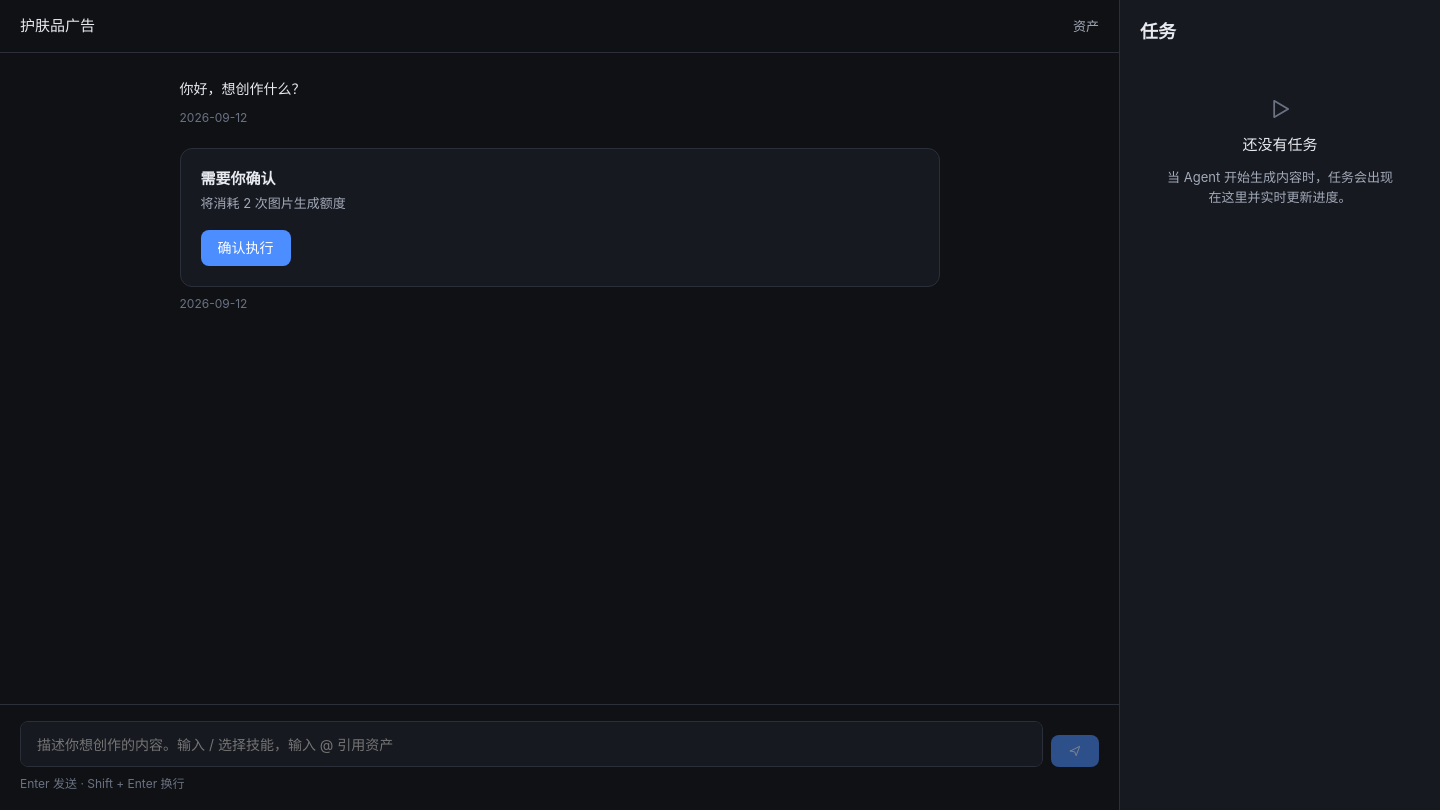
AgentWorkspace 接线：确认 › 确认失败时提示原因，而不是假装已放行
Expected: the heading "需要你确认" is shown, [200,168,276,188]
Click the button "确认执行" at (246, 248), box [200,230,290,266]
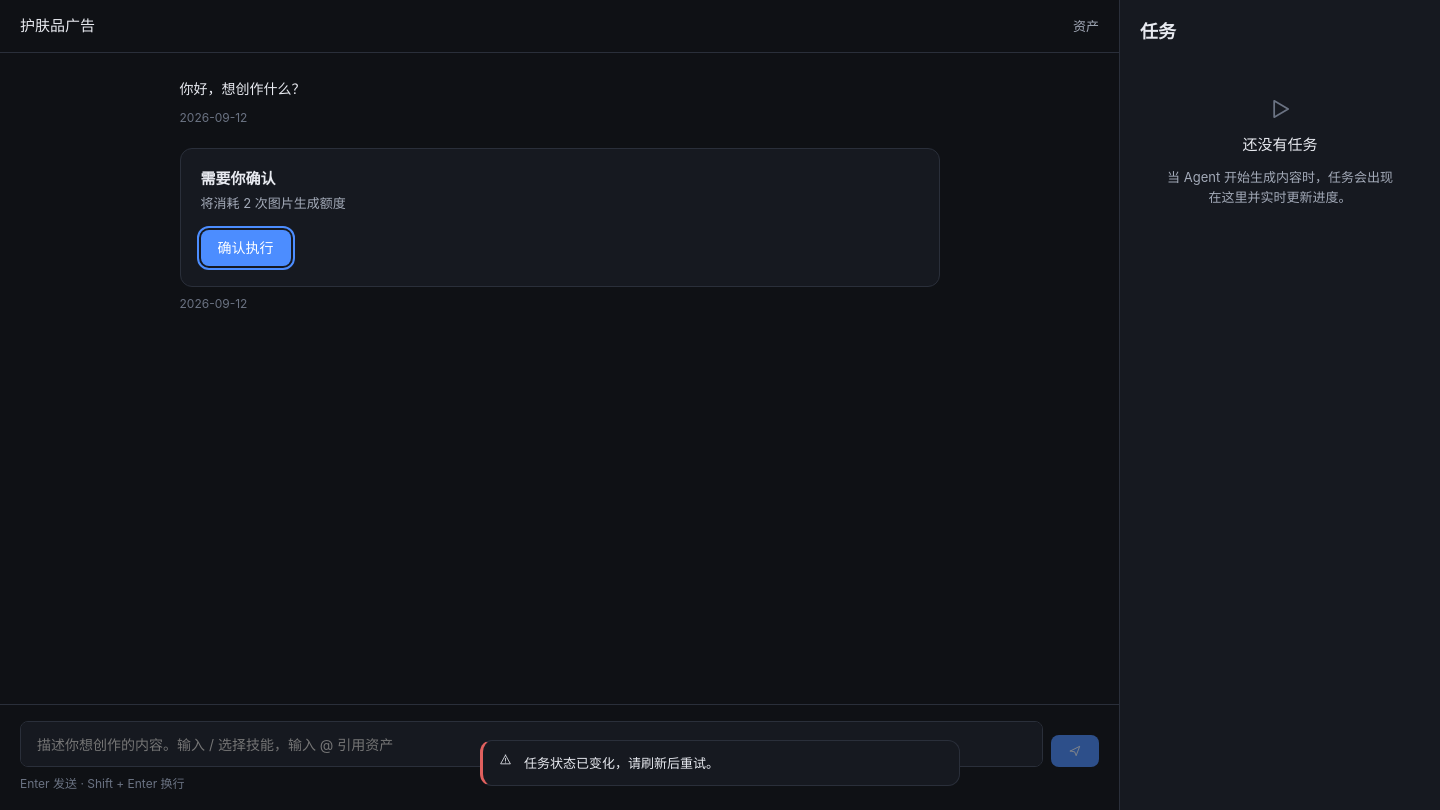
Expected: the text "任务状态已变化，请刷新后重试。" is shown, [524,753,719,773]
